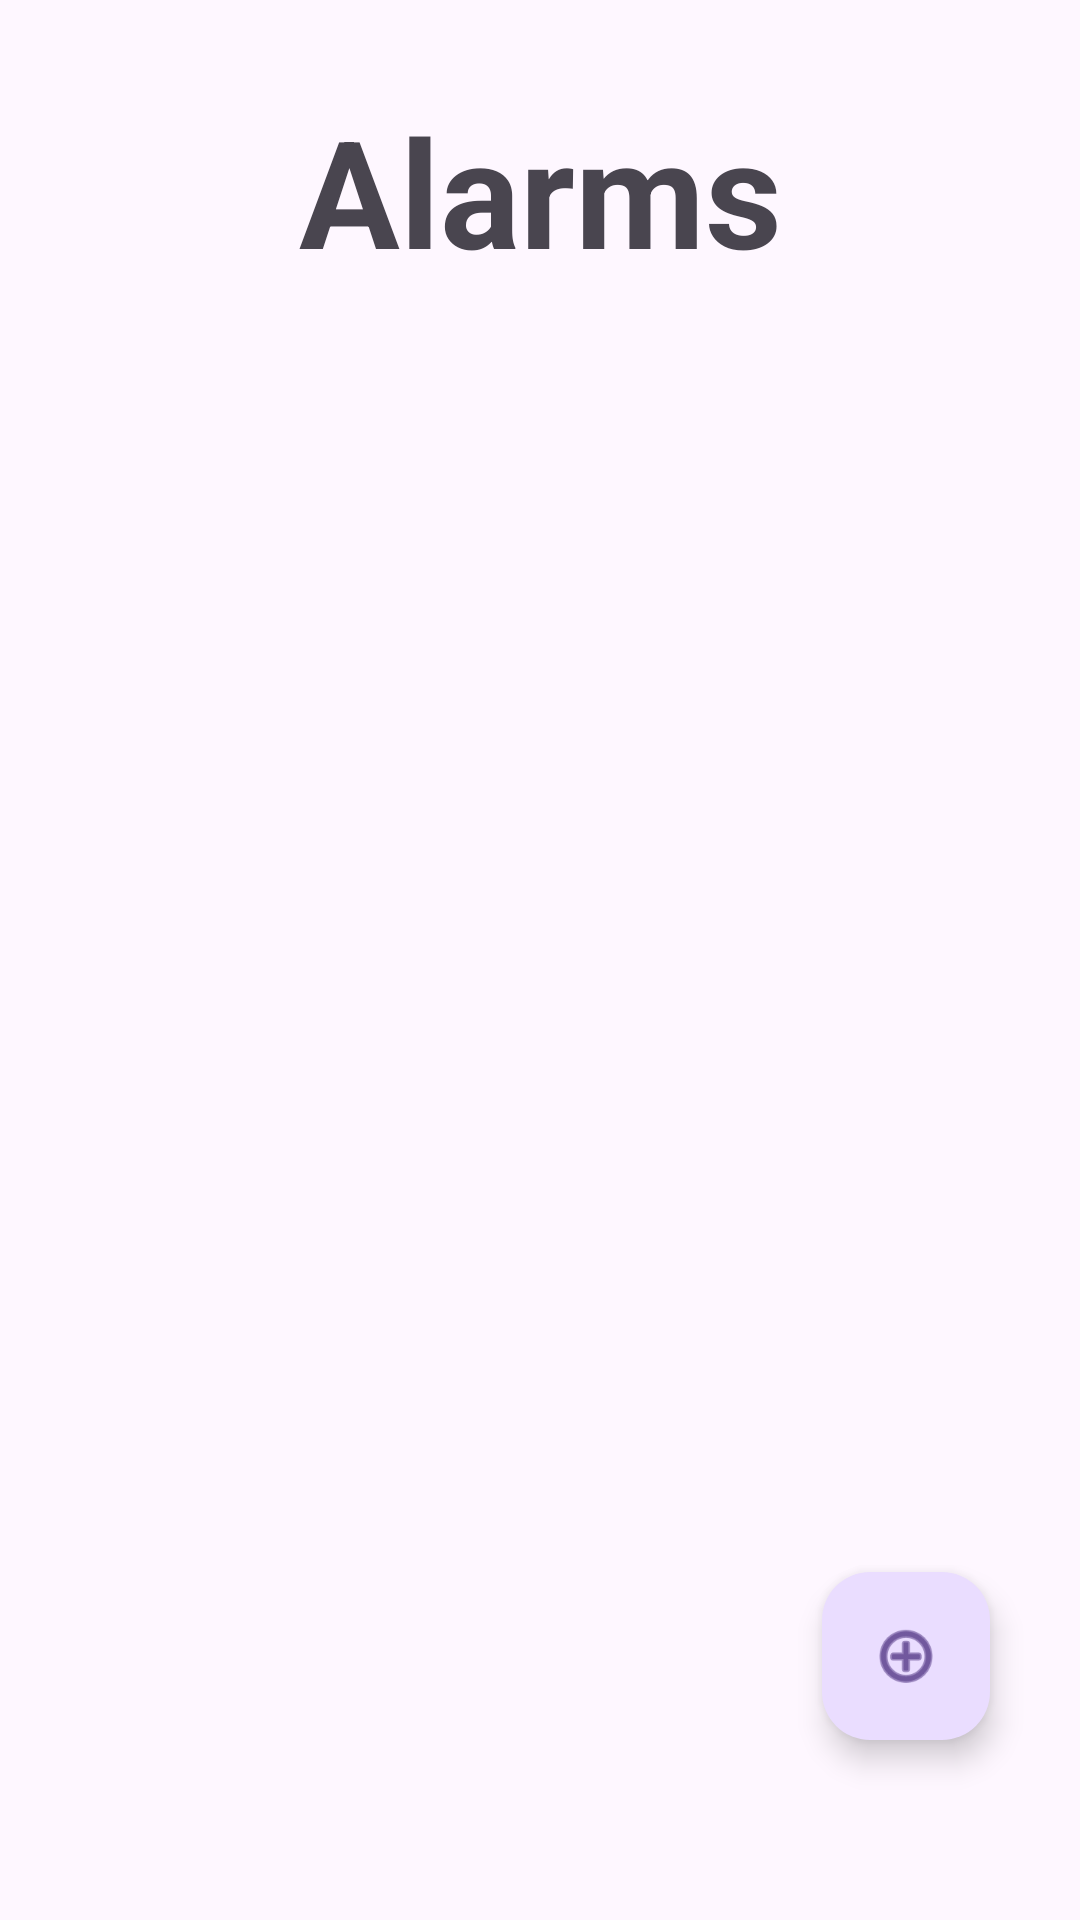

Icon bounding boxes for this 1080w x 1920h phone screenshot, format (x1, y1, x2, y2):
add: (822, 1572, 990, 1740)
